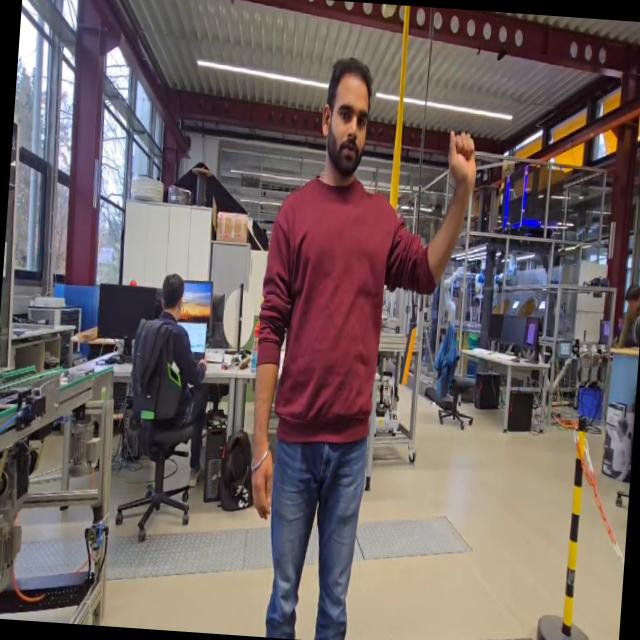closed_fist: (440, 121, 483, 198)
